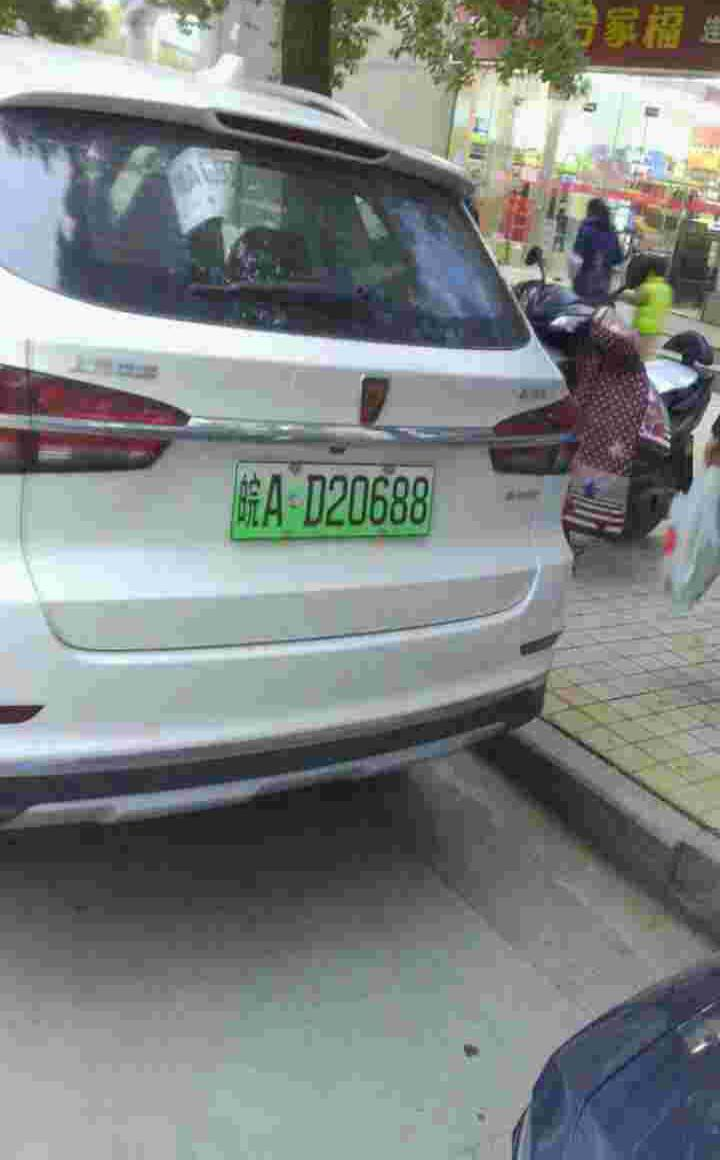car_id: (231, 462, 435, 531)
